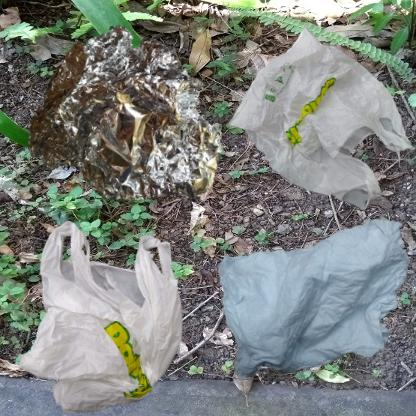aluminio: (10, 10, 236, 232)
bolsa: (213, 10, 416, 236), (10, 213, 212, 416)
papel: (213, 213, 416, 388)
